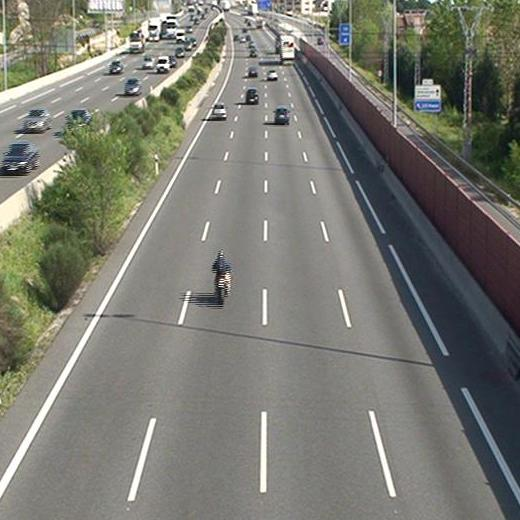car: (275, 106, 289, 124), (212, 103, 226, 119), (246, 89, 258, 104), (247, 66, 257, 77), (268, 69, 277, 80), (249, 48, 257, 57)
motorcycle: (213, 251, 232, 305)
truck: (281, 35, 295, 63)
